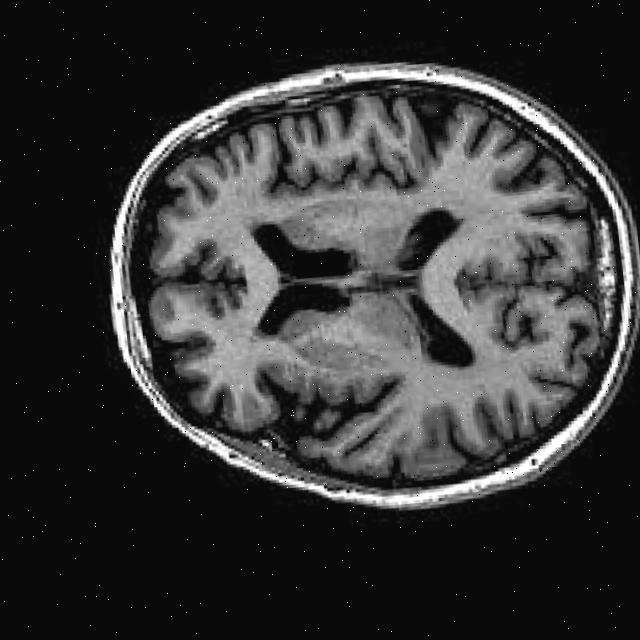NoTumor: (82, 37, 640, 538)
